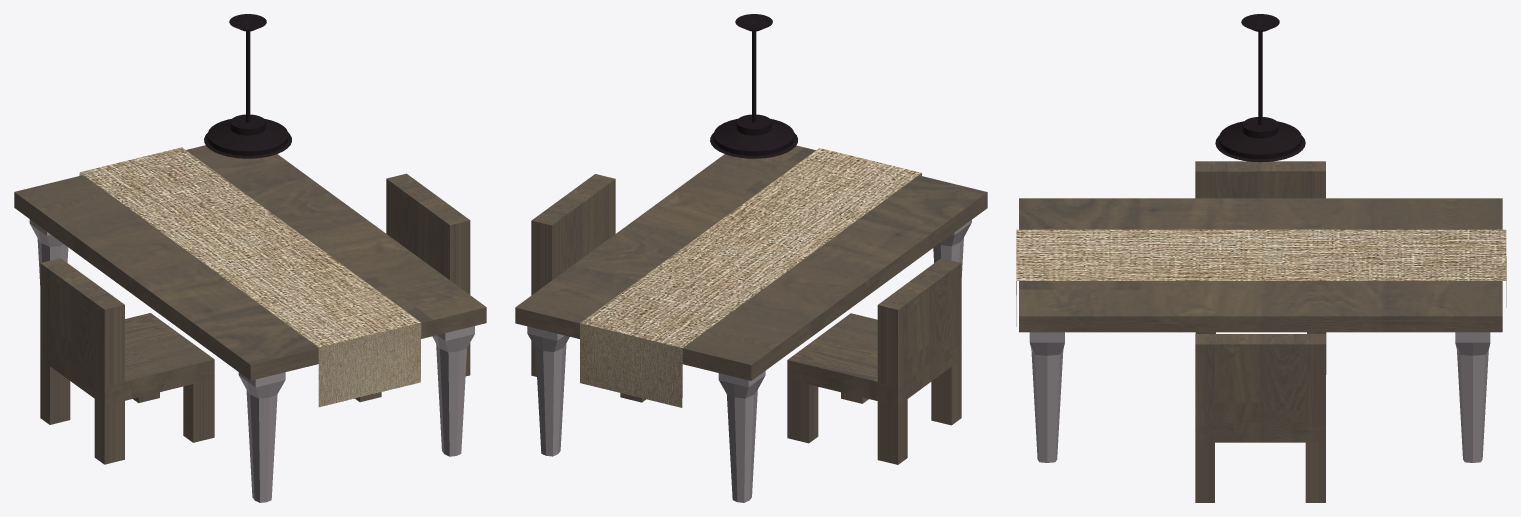
Rendered from chair.gltf.
The picture shows the model from 3 angles, left to right: view 1: azimuth 30°, elevation 25°; view 2: azimuth 150°, elevation 25°; view 3: azimuth 270°, elevation 25°; orthographic projection. The views are drawn at different scales.
Visible parts, largest first — view 1: Table, Runner, Chair.001, Chair, OverHeadLight, Leg1.001, Leg1, Leg1.003; view 2: Table, Runner, Chair.001, Chair, OverHeadLight, Leg1.003, Leg1.002, Leg1.001; view 3: Table, Runner, Chair, Chair.001, OverHeadLight, Leg1, Leg1.002.
Part boxes in pixels (bbox=[...]): Table: bbox=[14, 145, 486, 380]; Runner: bbox=[79, 147, 421, 406]; Chair.001: bbox=[40, 258, 214, 464]; Chair: bbox=[355, 173, 470, 402]; OverHeadLight: bbox=[204, 14, 291, 158]; Leg1.001: bbox=[238, 372, 285, 502]; Leg1: bbox=[432, 326, 474, 456]; Leg1.003: bbox=[29, 219, 68, 284]; Table: bbox=[515, 145, 987, 380]; Runner: bbox=[580, 148, 921, 407]; Chair.001: bbox=[787, 258, 961, 464]; Chair: bbox=[531, 174, 645, 402]; OverHeadLight: bbox=[710, 14, 797, 158]; Leg1.003: bbox=[718, 371, 765, 502]; Leg1.002: bbox=[527, 326, 569, 456]; Leg1.001: bbox=[933, 220, 971, 276]; Table: bbox=[1019, 198, 1502, 332]; Runner: bbox=[1016, 229, 1506, 326]; Chair: bbox=[1195, 334, 1325, 502]; Chair.001: bbox=[1195, 161, 1326, 374]; OverHeadLight: bbox=[1215, 14, 1305, 162]; Leg1: bbox=[1029, 332, 1064, 462]; Leg1.002: bbox=[1455, 332, 1490, 462].
Bounding box in the file's own units: 4.87 × 4.81 × 5.51.
Materials: 5 (5 with a texture image).
